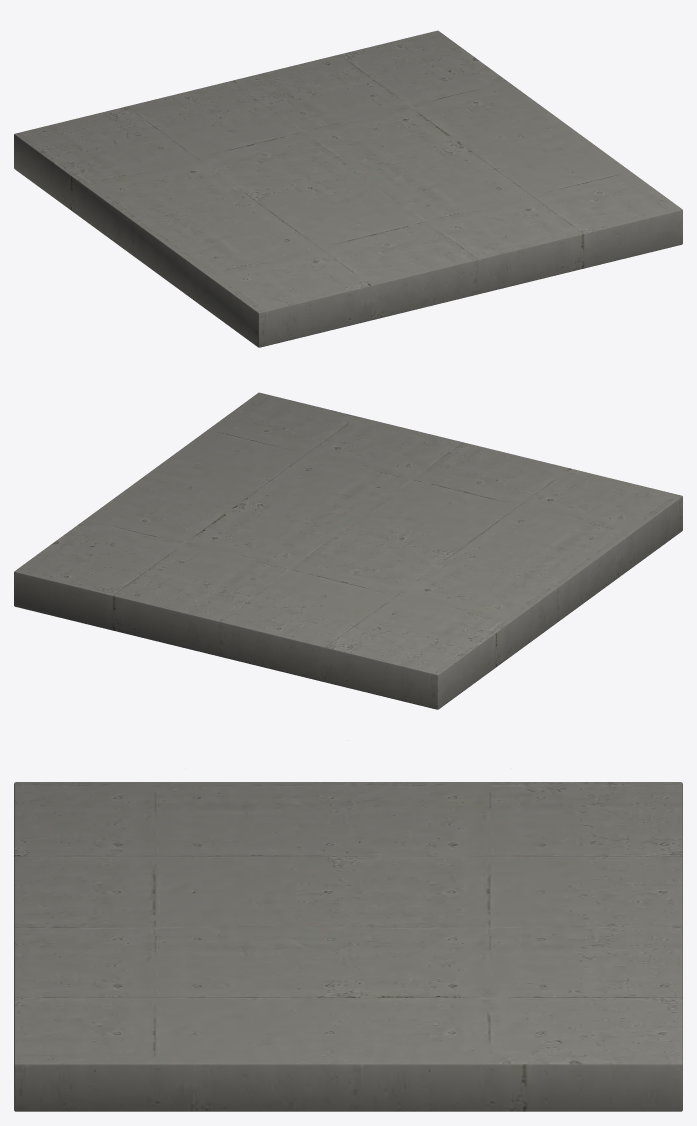
Rendered from IMP-PRT-001_anim.glb.
The picture shows the model from 3 angles, top to bottom: view 1: azimuth 30°, elevation 25°; view 2: azimuth 150°, elevation 25°; view 3: azimuth 270°, elevation 25°; orthographic projection. The views are drawn at different scales.
Parts seen in each view (by area): view 1: IMP-PRT-001_anim0; view 2: IMP-PRT-001_anim0; view 3: IMP-PRT-001_anim0.
Boxes of the visible parts, bbox=[...] form: IMP-PRT-001_anim0: bbox=[14, 30, 682, 347]; IMP-PRT-001_anim0: bbox=[14, 392, 682, 709]; IMP-PRT-001_anim0: bbox=[14, 782, 682, 1111].
Bounding box in the file's own units: 1 × 0.384 × 1.
5 materials, 4 textured.
